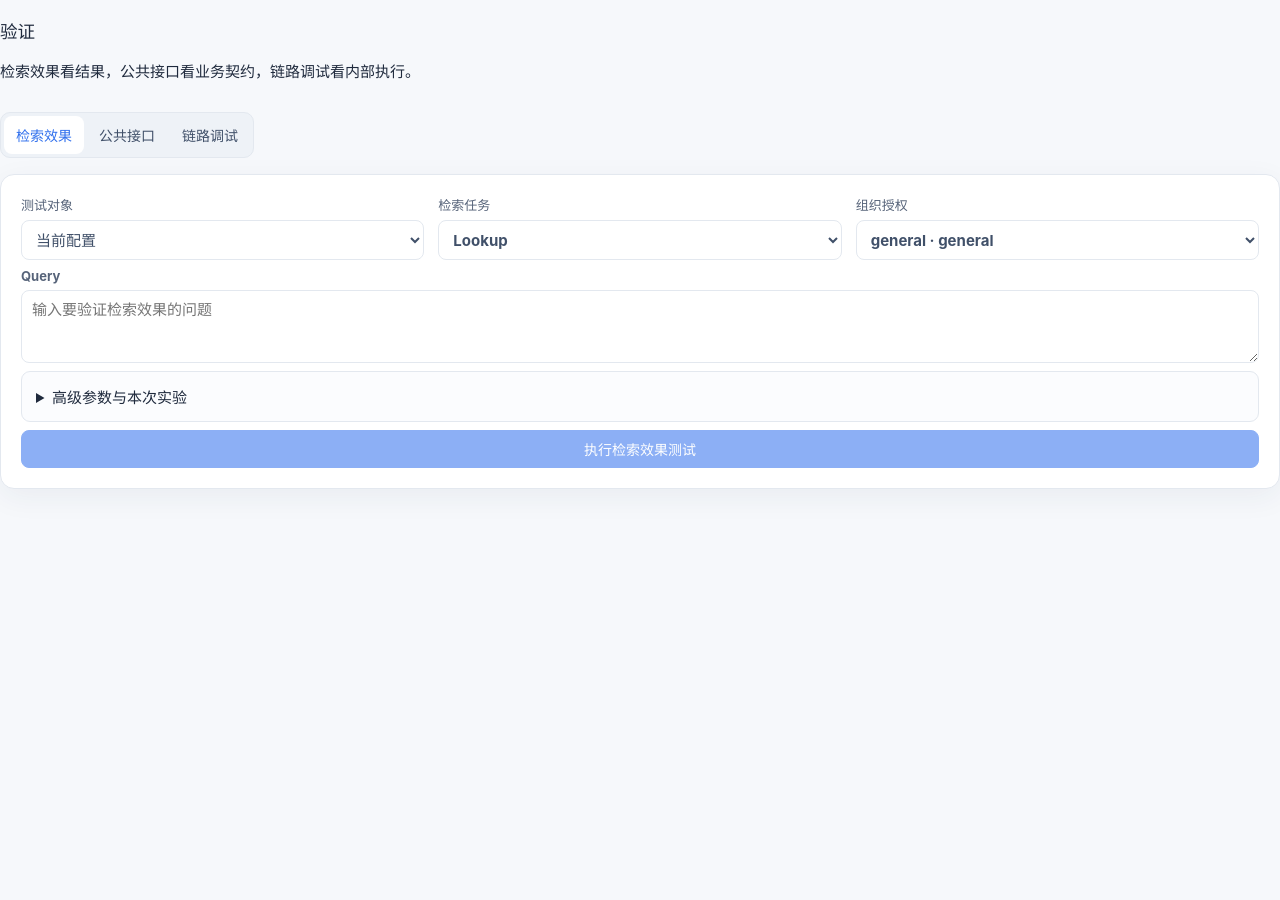
Scenario: three-level retrieval validation › opens the exact public trace without executing retrieval again
Click the button "公共接口".
click(127, 135)  # box [87, 116, 167, 154]
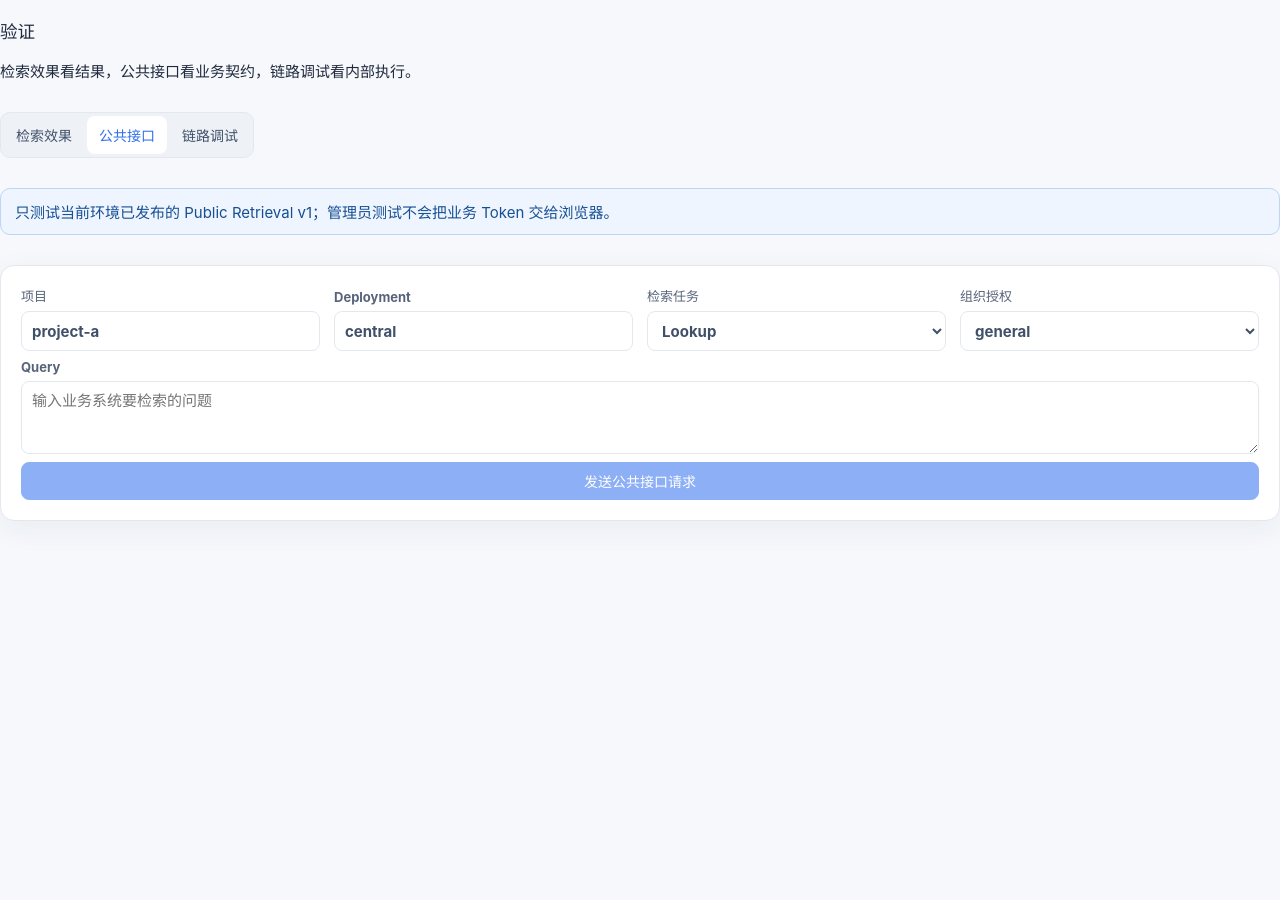
Type "question" into the text box labelled "Query".
click(640, 418); type("question")  # box [21, 381, 1259, 454]
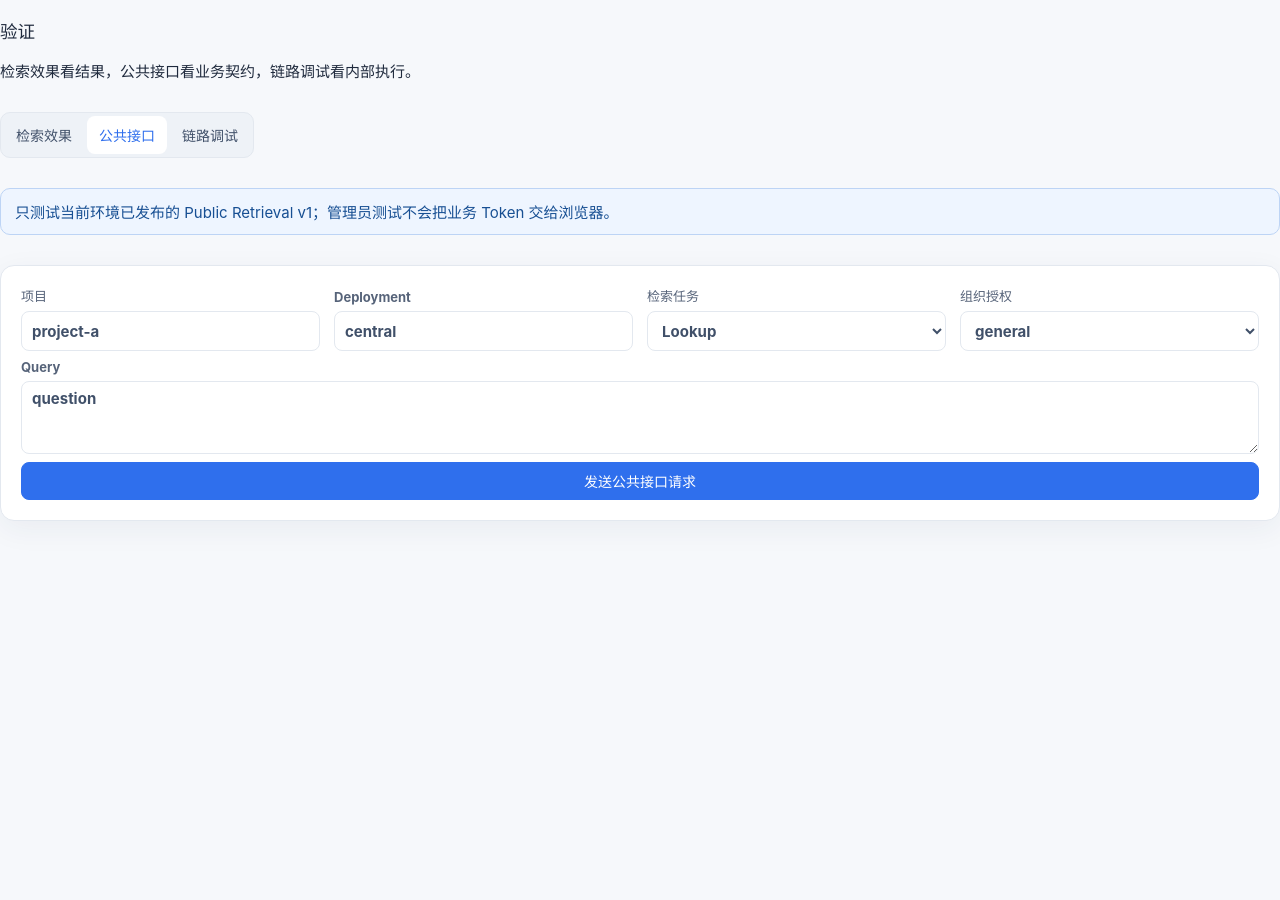
Submit the form, box [0, 265, 1279, 521]
(page scrolled)
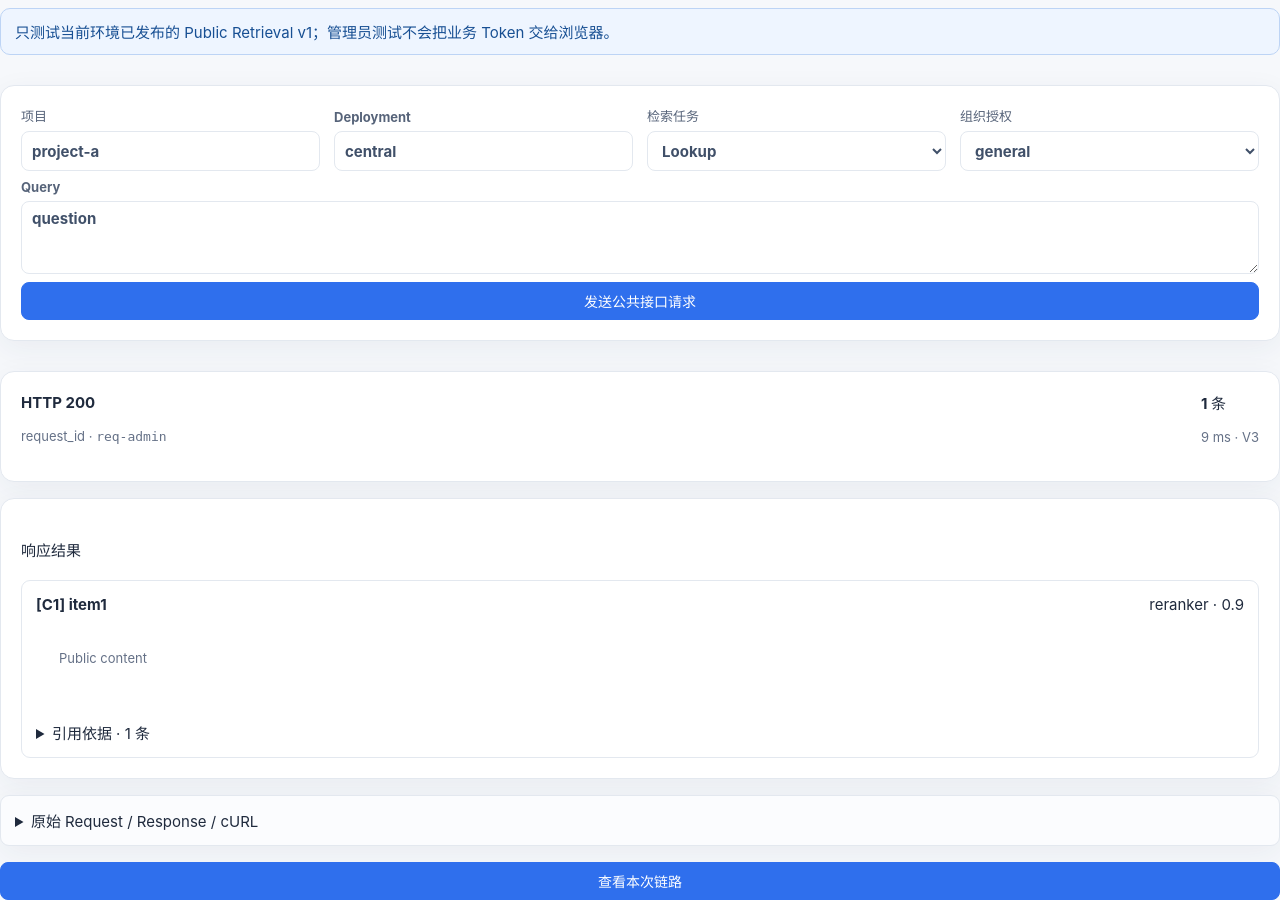
Click the button "查看本次链路".
click(640, 881)  # box [0, 862, 1279, 899]
(page scrolled)
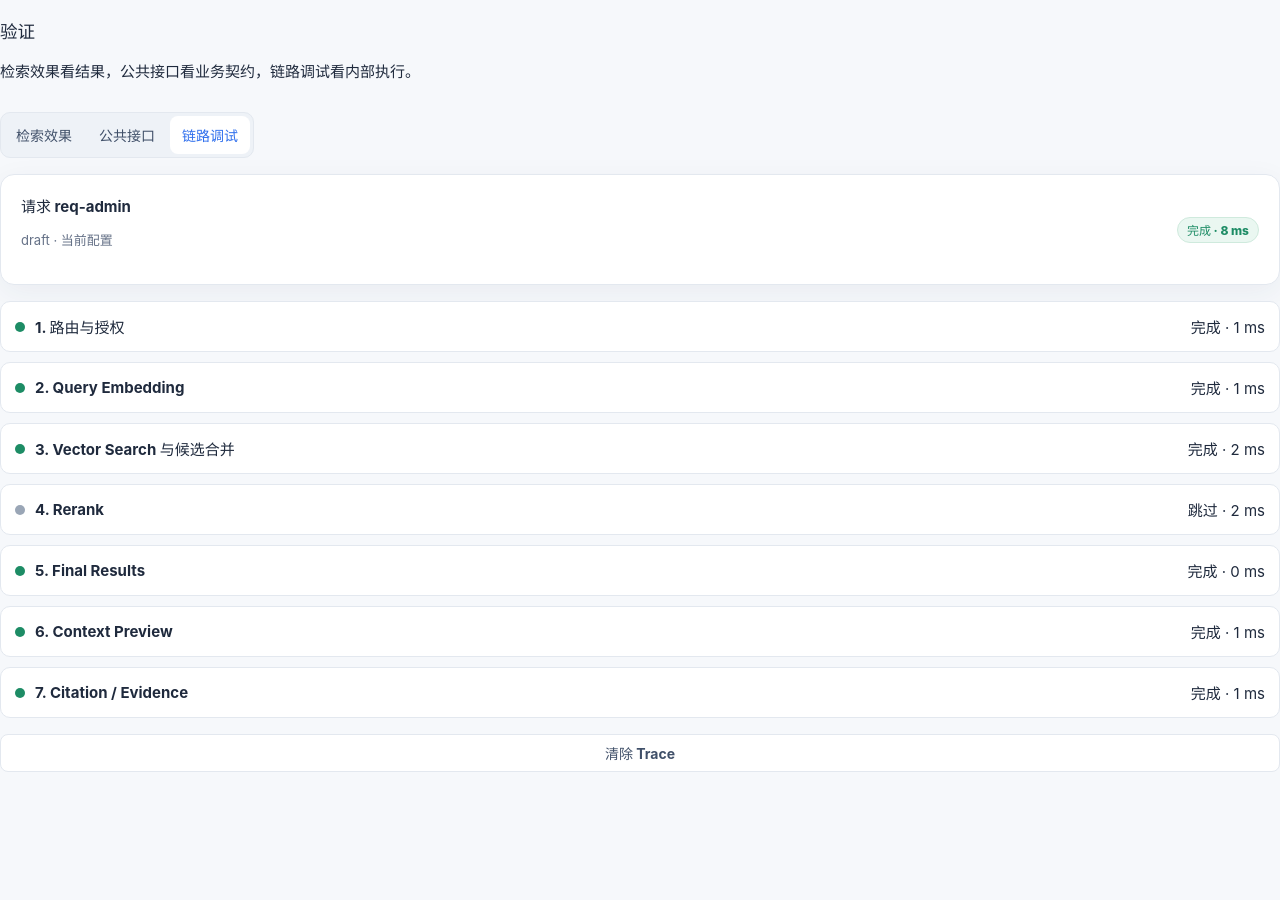
Expected: the text "请求 req-admin" is shown, [21, 197, 131, 216]
Expected: the text "路由与授权" is shown, [35, 318, 125, 337]
